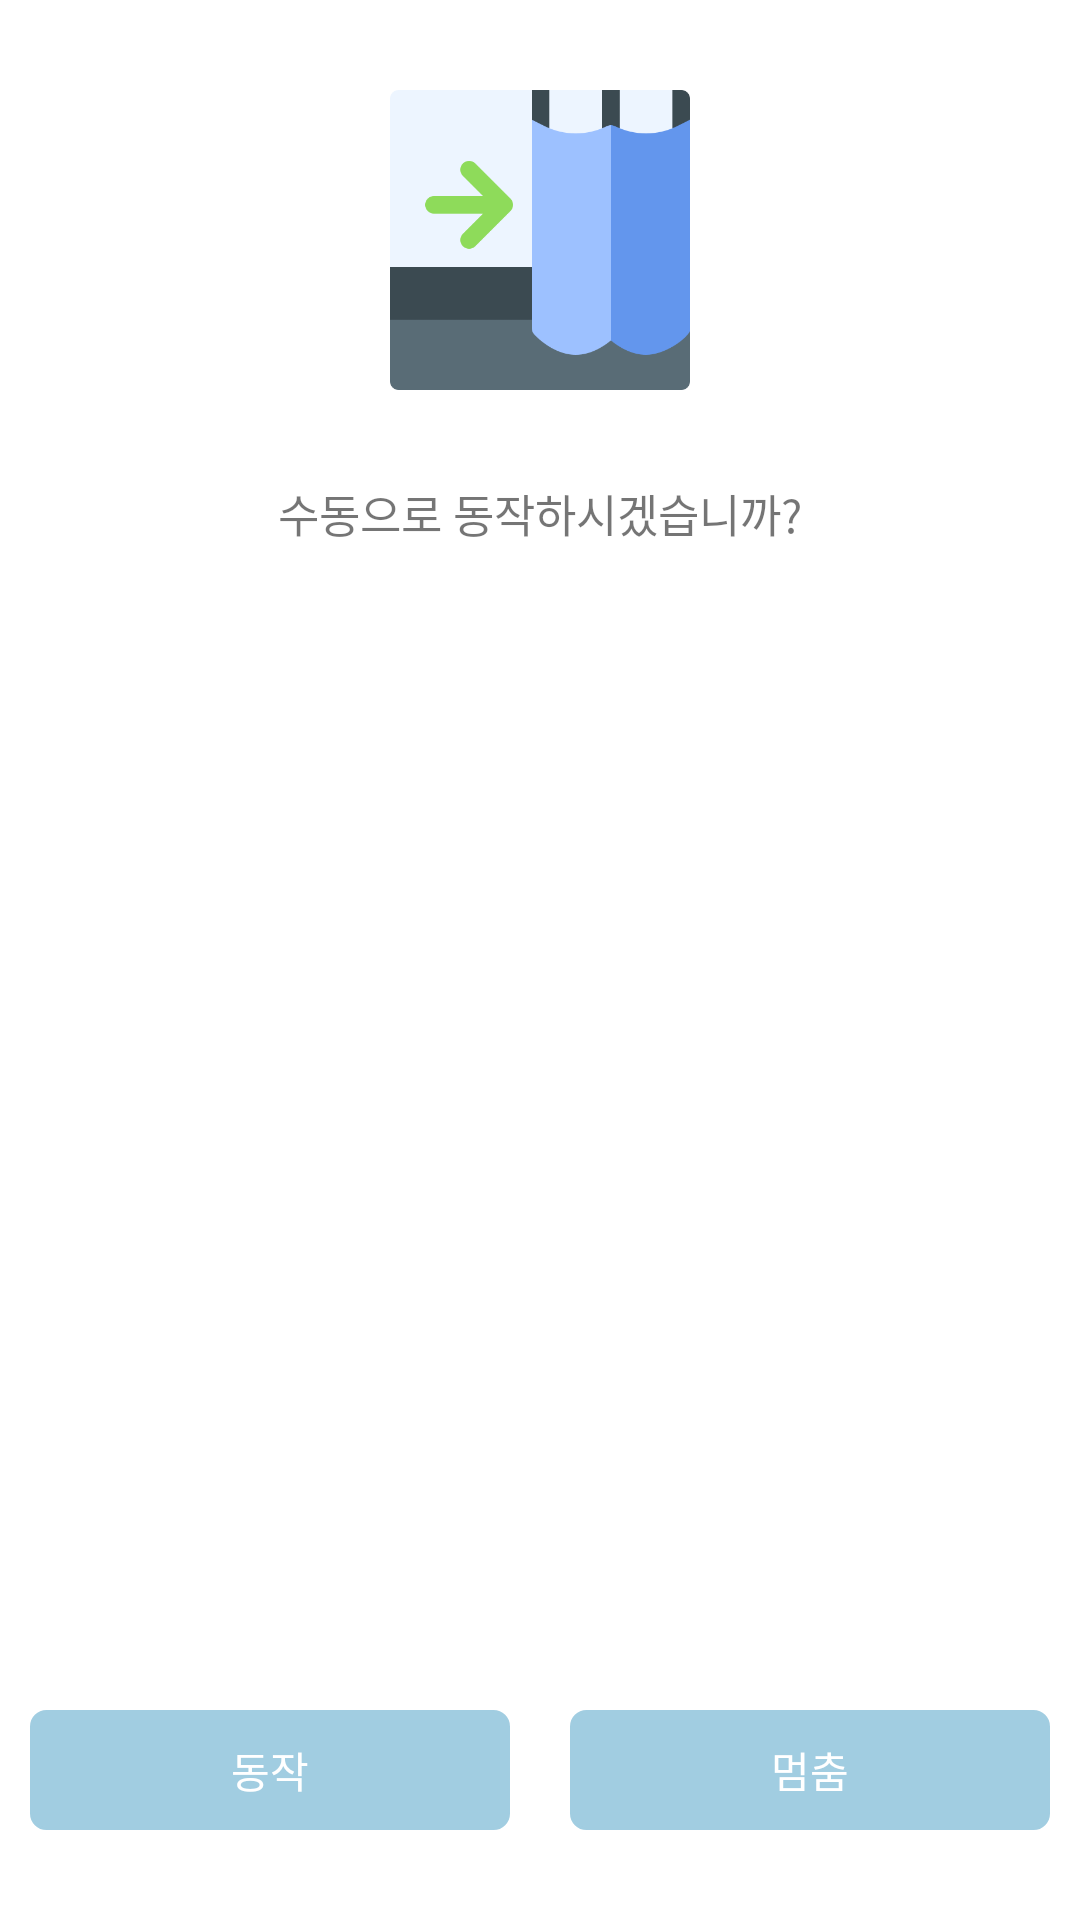

Icons on this 1080*1920 Android screen, each with its box as (x1, y1, x2, y2):
curtain: (390, 90, 690, 390)
